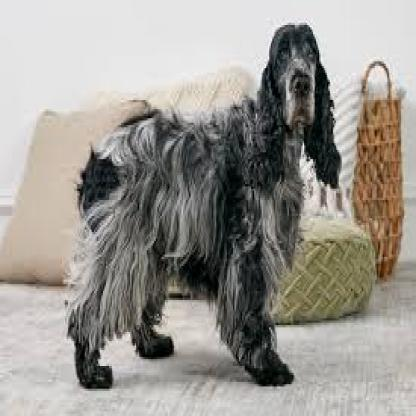Cocker spaniel: (53, 13, 351, 392)
